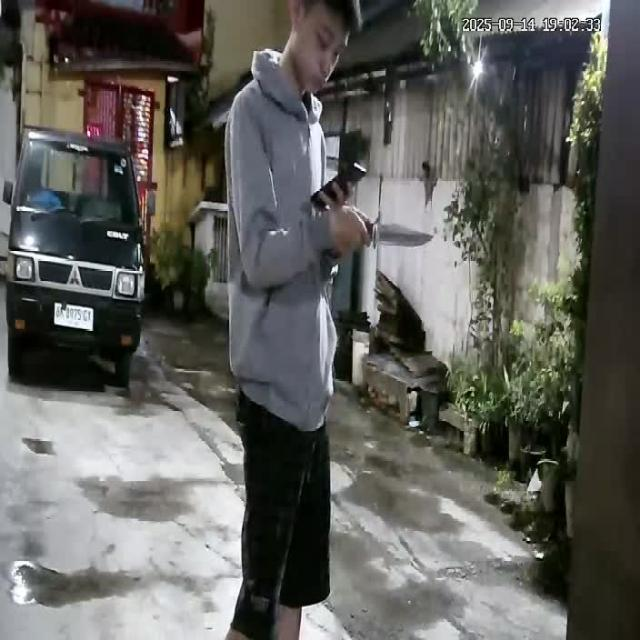senjata_tajam: (368, 218, 436, 250)
